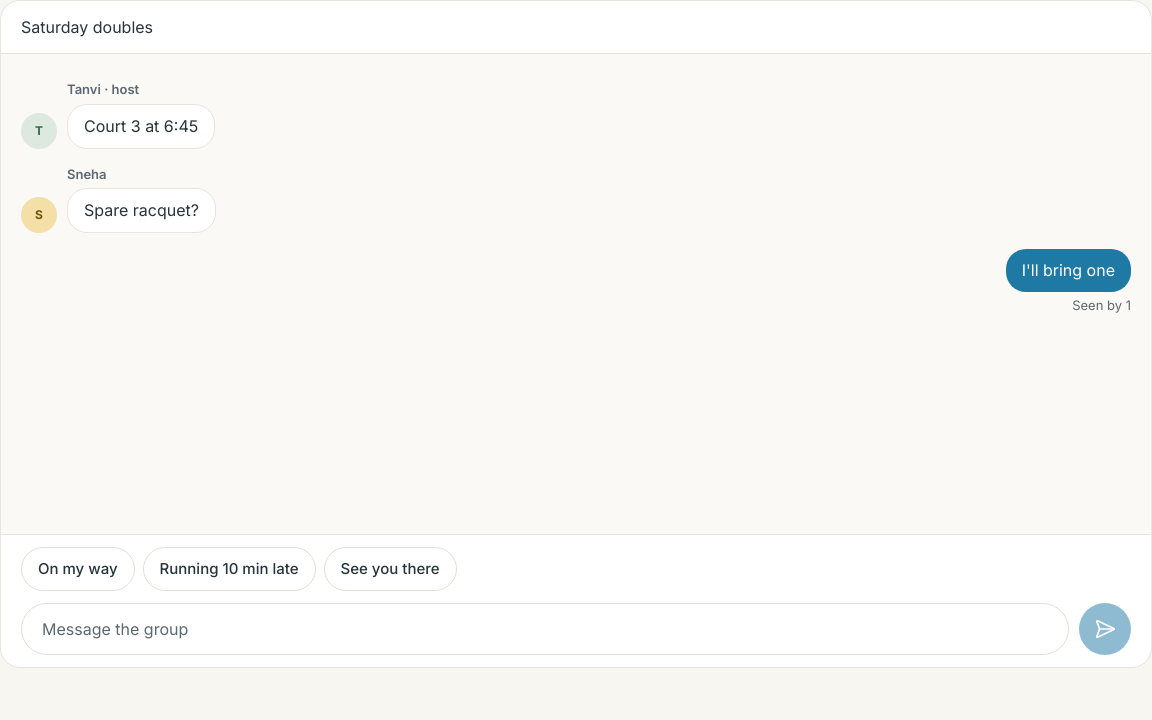
Test: S16 chat room (ST-143) › sends from the composer and quick replies; status goes back to Sent
This screenshot has width=1152, height=720.
Later steps or results of the test are not shown.
Type "See you at 6:45" into the field with placeholder "Message the group".
click(545, 629); type("See you at 6:45")  # box x1=21 y1=603 x2=1069 y2=655
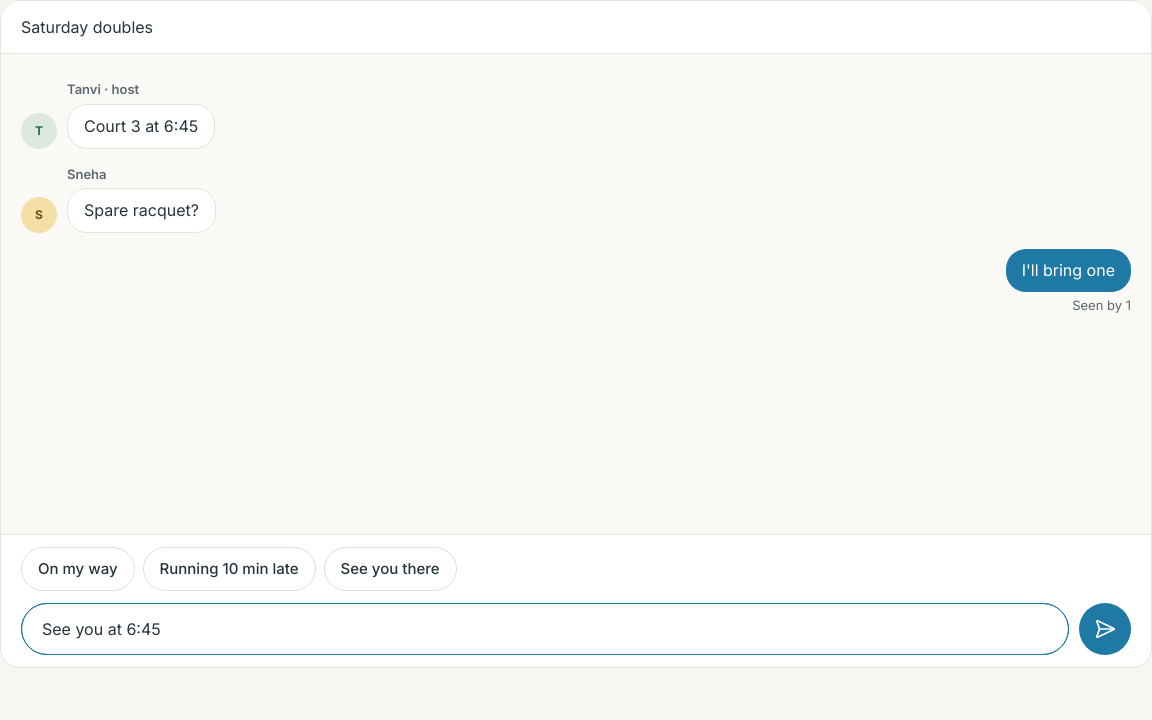
Click the button named "Send".
click(1105, 629)  # box x1=1079 y1=603 x2=1131 y2=655
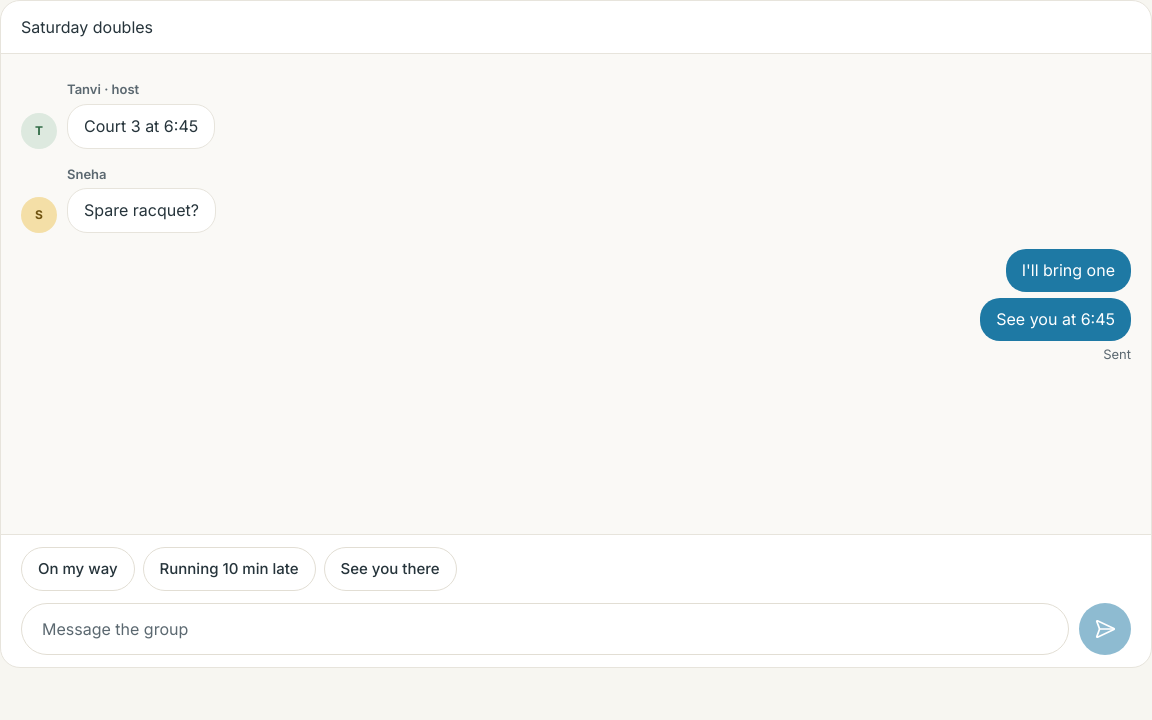
Expected: the text "See you at 6:45" is shown, x1=980 y1=298 x2=1131 y2=341
Expected: the field with placeholder "Message the group" is empty, x1=21 y1=603 x2=1069 y2=655
Expected: the text with test id "own-status" reads "Sent", x1=1103 y1=346 x2=1131 y2=362
